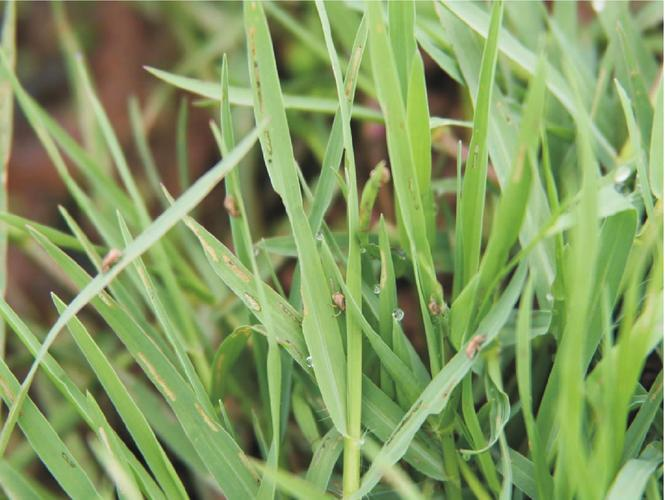Curculionidae: (326, 290, 347, 317), (465, 334, 486, 359), (100, 248, 121, 273), (223, 195, 241, 218), (428, 300, 440, 315)
